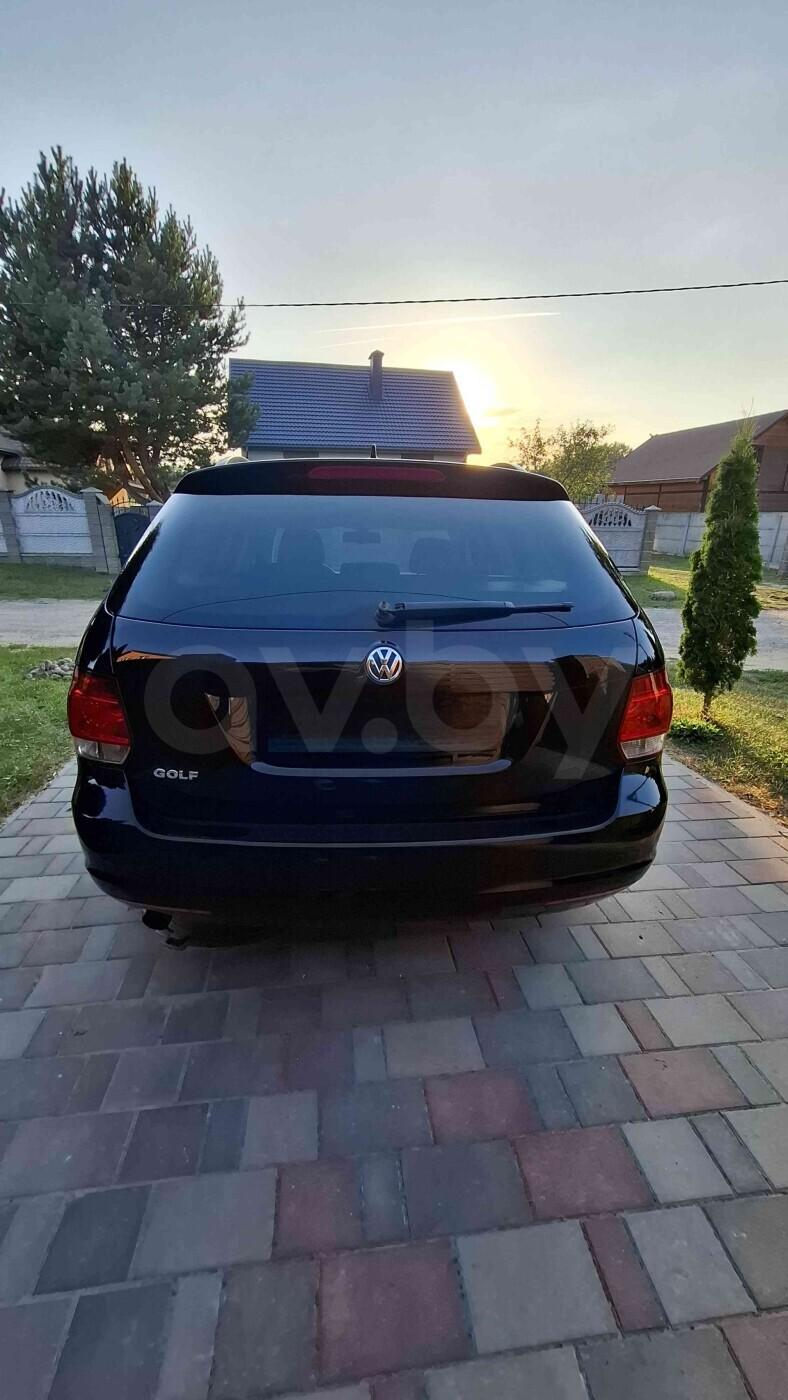Golf_2008-2013: (55, 443, 679, 930)
